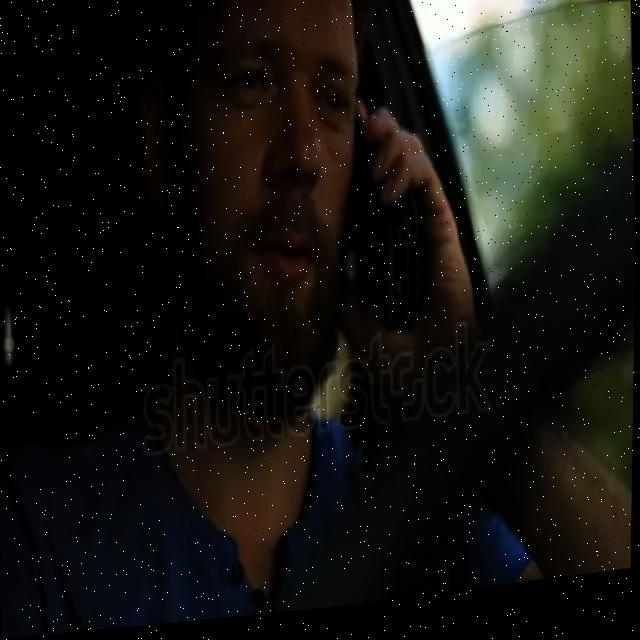PhoneCall: (346, 112, 428, 352)
